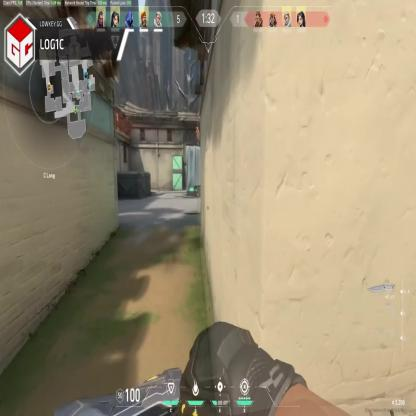enemy: (195, 125, 200, 147)
enemy_head: (196, 126, 198, 131)
